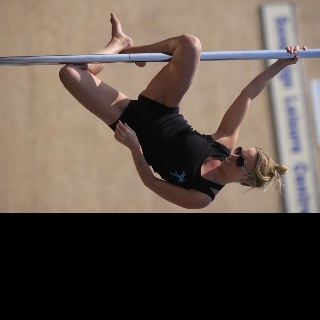without_mask: (220, 148, 256, 179)
